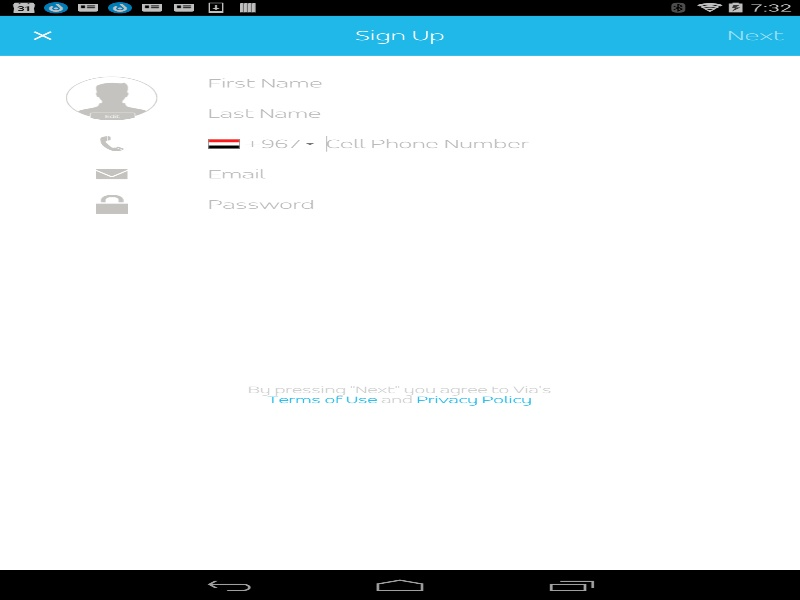Button: (0, 18, 74, 53)
Input: (208, 68, 784, 98), (208, 98, 784, 128), (208, 159, 784, 189), (208, 189, 784, 219), (326, 128, 528, 159)
